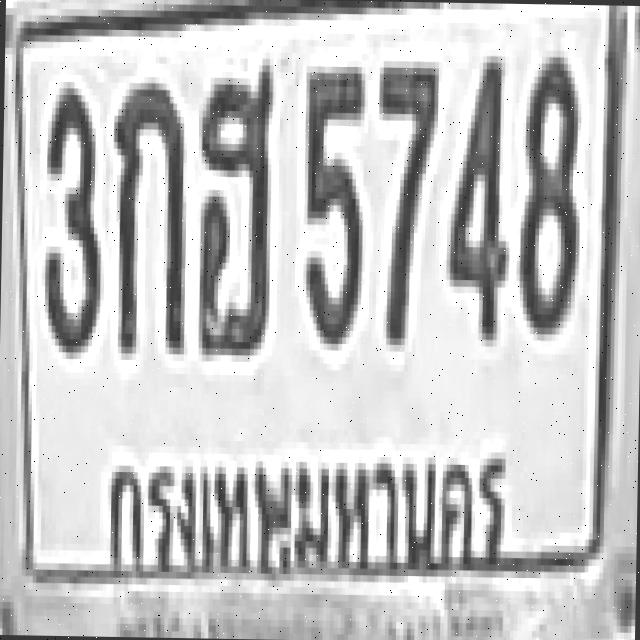10GorGai: (110, 75, 185, 348)
3: (40, 80, 100, 346)
4: (445, 45, 509, 336)
5: (301, 59, 365, 343)
53HorNokHook: (193, 61, 271, 346)
7: (374, 60, 438, 338)
8: (515, 50, 579, 328)
Bangkok: (88, 428, 518, 584)
